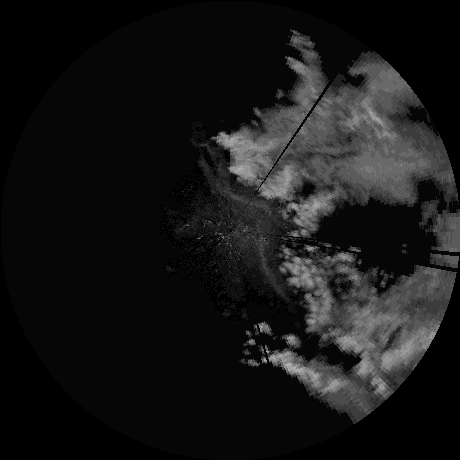frontgust: (199, 153, 272, 216), (255, 222, 287, 299)
